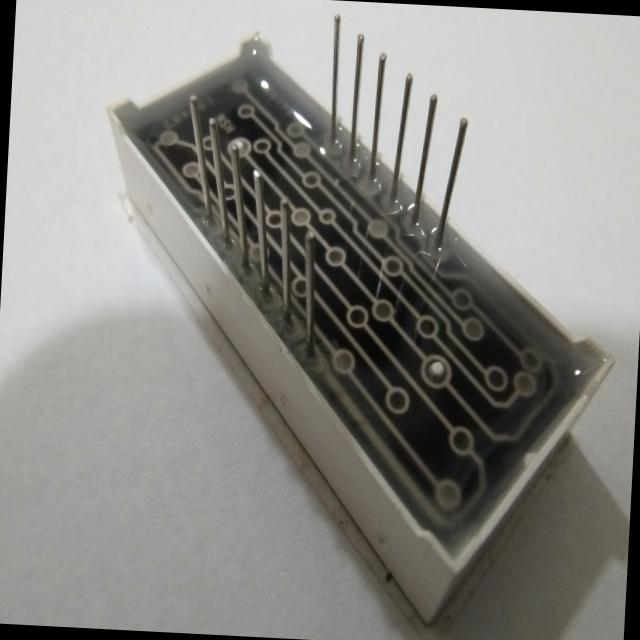7_segments_4_digits: (66, 0, 640, 640)
